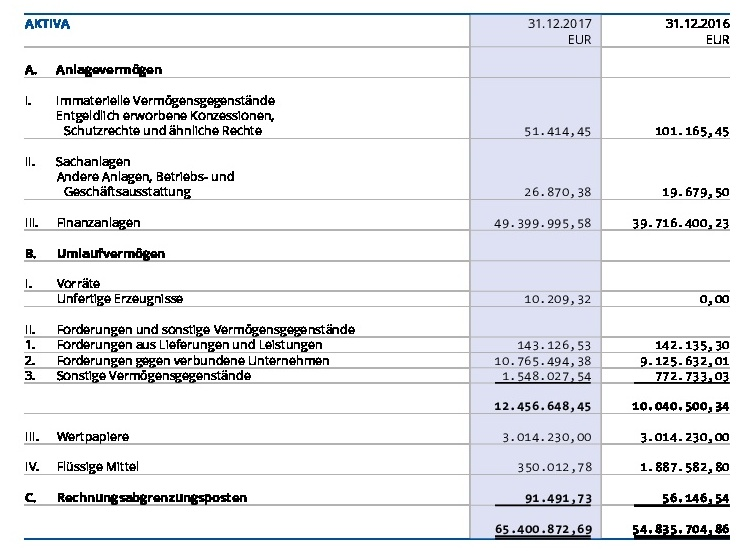table: (0, 0, 753, 555)
